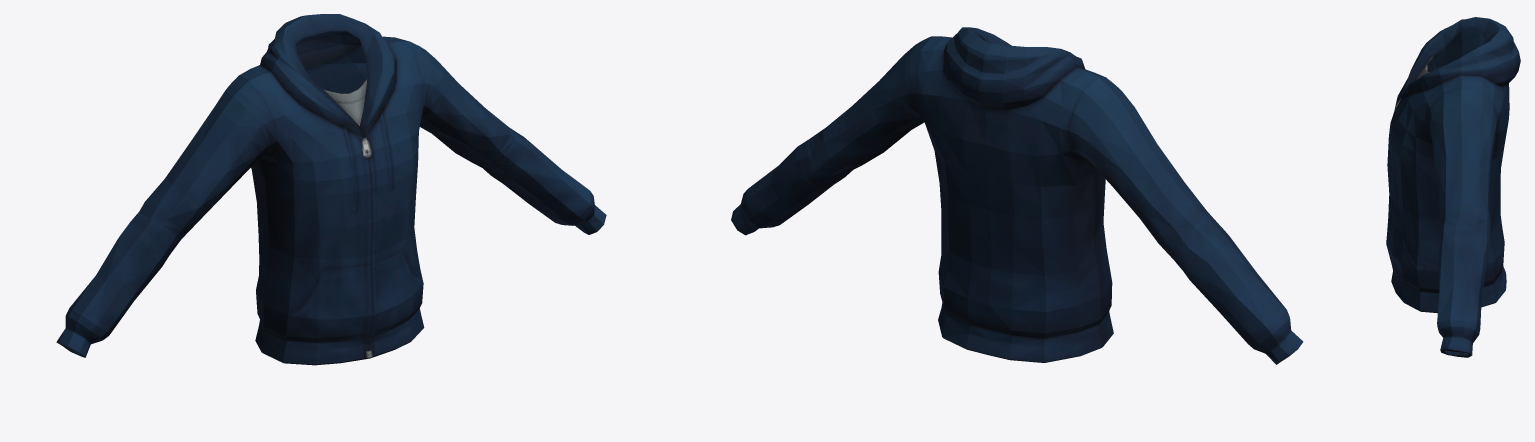
The model's file is Zipper_Hoodie.obj.
3 views of the same model, side by side, from view 1: azimuth 30°, elevation 25°; view 2: azimuth 150°, elevation 25°; view 3: azimuth 270°, elevation 25° (orthographic). The views are drawn at different scales.
Visible parts, largest first — view 1: s4studio_mesh_2_geom.005, s4studio_mesh_6_geom.009, s4studio_mesh_4_geom.007, s4studio_mesh_1_geom.004, s4studio_mesh_3_geom.006, s4studio_mesh_5_geom.008; view 2: s4studio_mesh_2_geom.005, s4studio_mesh_6_geom.009, s4studio_mesh_4_geom.007, s4studio_mesh_1_geom.004, s4studio_mesh_3_geom.006, s4studio_mesh_5_geom.008; view 3: s4studio_mesh_2_geom.005, s4studio_mesh_1_geom.004, s4studio_mesh_6_geom.009, s4studio_mesh_5_geom.008, s4studio_mesh_4_geom.007.
Part boxes in pixels (x1,y1,x2,y2): s4studio_mesh_2_geom.005: (96, 36, 562, 365); s4studio_mesh_6_geom.009: (260, 14, 396, 137); s4studio_mesh_4_geom.007: (145, 107, 259, 233); s4studio_mesh_1_geom.004: (420, 60, 510, 162); s4studio_mesh_3_geom.006: (56, 275, 133, 357); s4studio_mesh_5_geom.008: (529, 169, 606, 234); s4studio_mesh_2_geom.005: (770, 36, 1257, 362); s4studio_mesh_6_geom.009: (943, 27, 1084, 110); s4studio_mesh_4_geom.007: (1084, 107, 1203, 243); s4studio_mesh_1_geom.004: (823, 56, 924, 166); s4studio_mesh_3_geom.006: (1220, 274, 1303, 364); s4studio_mesh_5_geom.008: (731, 165, 807, 235); s4studio_mesh_2_geom.005: (1386, 25, 1509, 313); s4studio_mesh_1_geom.004: (1432, 120, 1495, 226); s4studio_mesh_6_geom.009: (1401, 17, 1520, 97); s4studio_mesh_5_geom.008: (1437, 285, 1481, 357); s4studio_mesh_4_geom.007: (1432, 30, 1484, 69).
Size of the model in its own units: 1.44 by 0.6937 by 0.3089.
